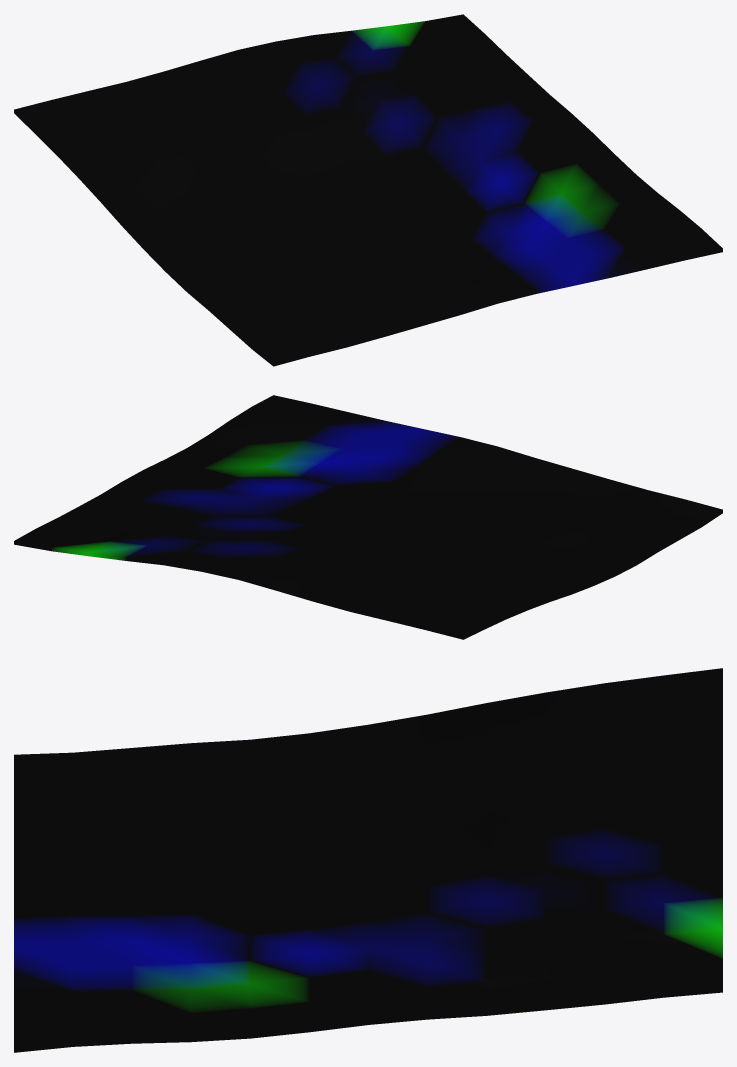
The model's file is coast_0_1.glb.
3 views of the same model, one above another, from view 1: azimuth 30°, elevation 25°; view 2: azimuth 150°, elevation 25°; view 3: azimuth 270°, elevation 25° (orthographic). The views are drawn at different scales.
Visible parts, largest first — view 1: terrain; view 2: terrain; view 3: terrain.
Boxes of the visible parts, bbox=[...] form: terrain: bbox=[14, 14, 722, 366]; terrain: bbox=[14, 395, 722, 639]; terrain: bbox=[14, 668, 722, 1052].
Size of the model in its own units: 192 by 29.42 by 192.
